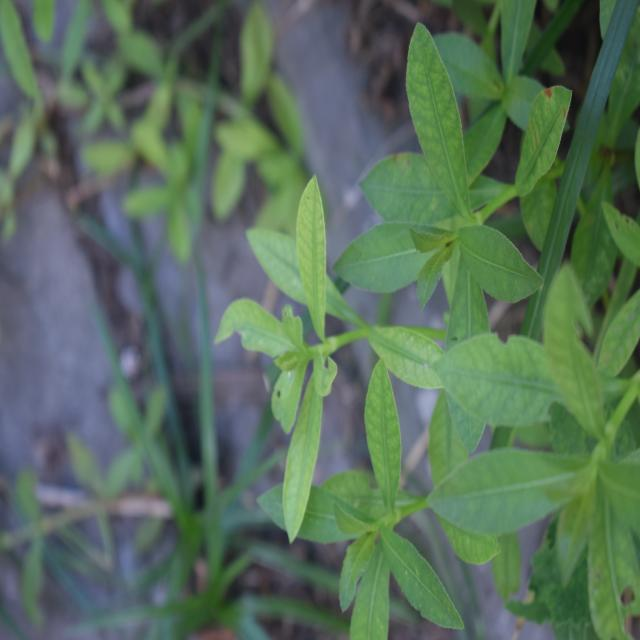Alligatorweed: (333, 36, 555, 354), (277, 370, 489, 636), (217, 167, 382, 433)
